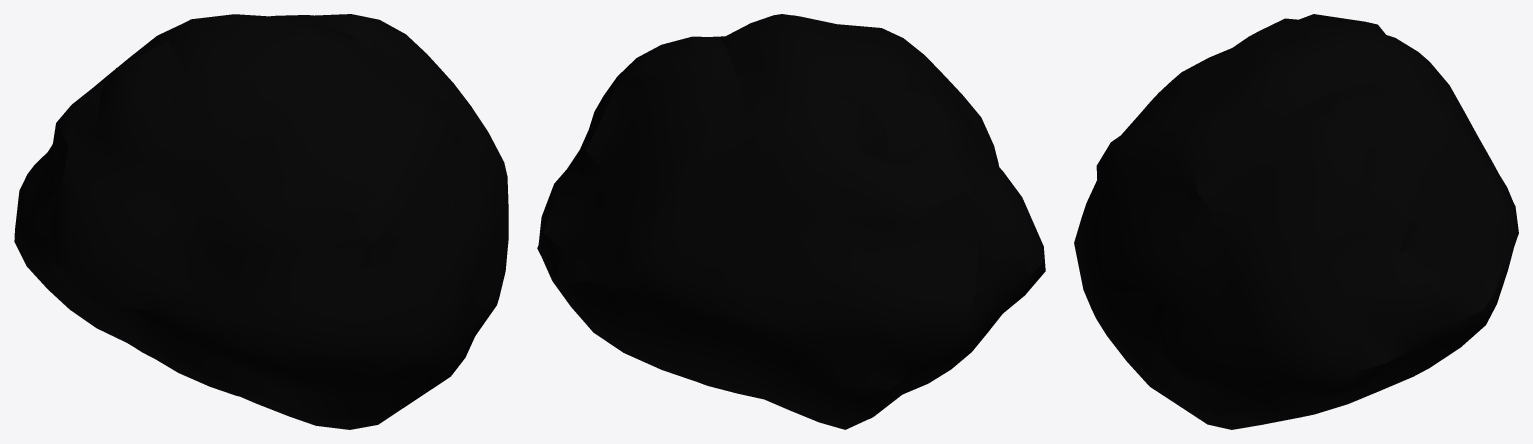
File: rock_boulder_02.glb
3 renders of one model, left to right at view 1: azimuth 30°, elevation 25°; view 2: azimuth 150°, elevation 25°; view 3: azimuth 270°, elevation 25°, orthographic. The views are drawn at different scales.
Parts seen in each view (by area): view 1: rock_boulder_02; view 2: rock_boulder_02; view 3: rock_boulder_02.
Boxes of the visible parts, x1,y1,x2,y2 form: rock_boulder_02: (14, 14, 508, 429); rock_boulder_02: (537, 14, 1045, 429); rock_boulder_02: (1074, 14, 1518, 429).
Bounding box in the file's own units: 1.48 × 1.17 × 1.33.
Materials: 1 (1 with a texture image).
